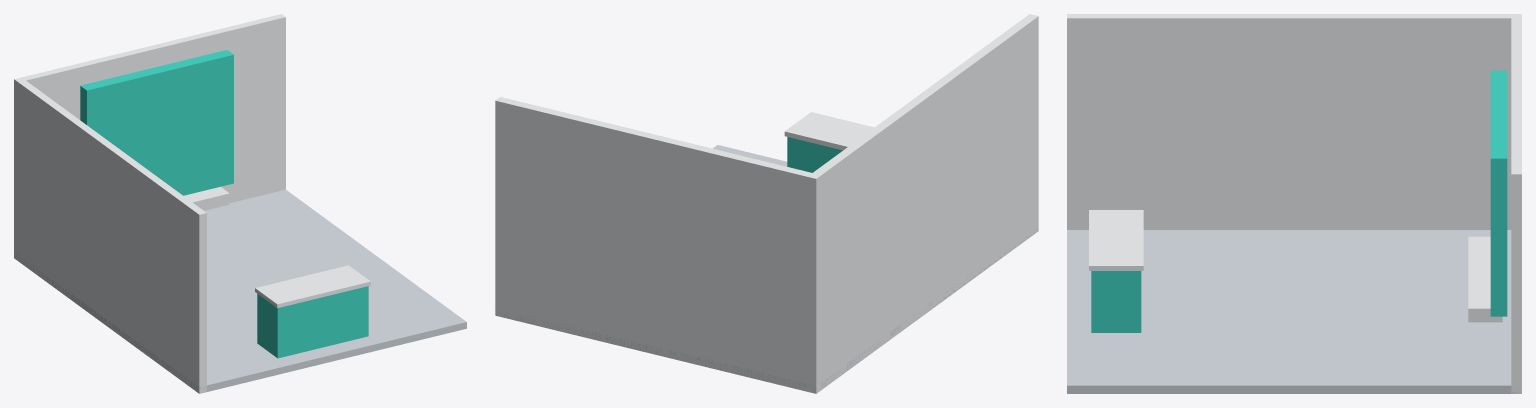
The picture shows the model from 3 angles, left to right: view 1: azimuth 30°, elevation 25°; view 2: azimuth 150°, elevation 25°; view 3: azimuth 270°, elevation 25°; orthographic projection. The views are drawn at different scales.
Visible parts, largest first — view 1: Exhibition Booth Concept; view 2: Exhibition Booth Concept; view 3: Exhibition Booth Concept.
Boxes of the visible parts, x1,y1,x2,y2 form: Exhibition Booth Concept: [14, 14, 466, 393]; Exhibition Booth Concept: [495, 14, 1038, 393]; Exhibition Booth Concept: [1067, 14, 1521, 393].
Size of the model in its own units: 5 by 3.2 by 6.
